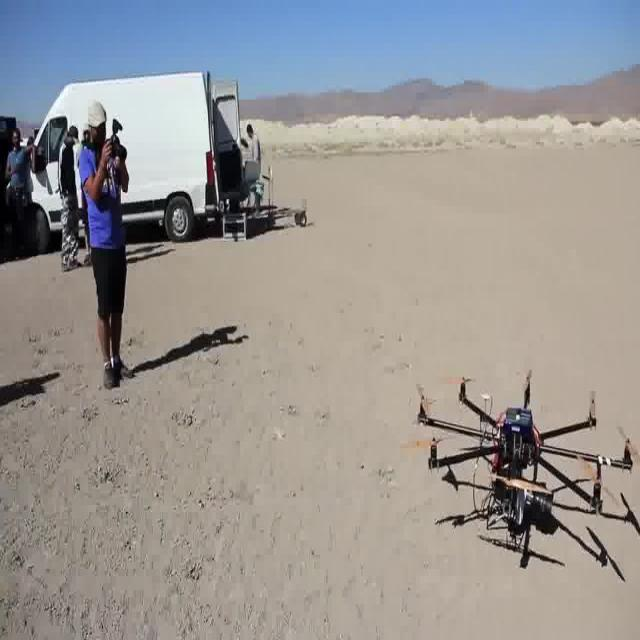drones: (393, 360, 640, 590)
